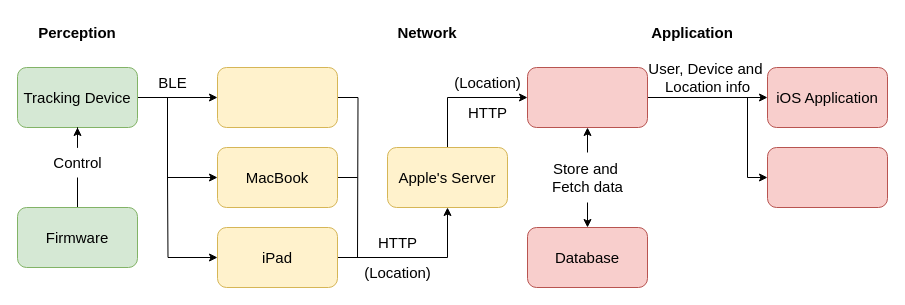
The diagram is 905 pixels wide and 305 high, and some of its shapes have lost their labels. The shapes that lost their labels are listed below. From the top down, each one's box as (x1, y1, x2, y2) in pixels, then its label:
(216, 66, 338, 128): iPhone
(526, 66, 648, 128): Private Server
(766, 146, 888, 208): Android Application
